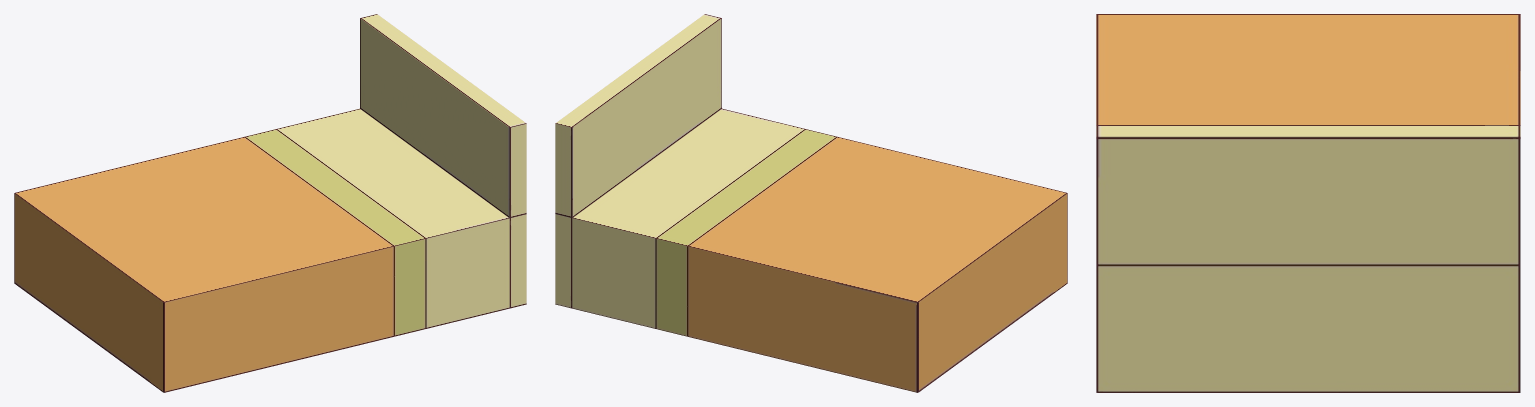
File: Dream(2)_Bed.fbx
The picture shows the model from 3 angles, left to right: view 1: azimuth 30°, elevation 25°; view 2: azimuth 150°, elevation 25°; view 3: azimuth 270°, elevation 25°; orthographic projection. The views are drawn at different scales.
Visible parts, largest first — view 1: Box001; view 2: Box001; view 3: Box001.
Part boxes in pixels (left/top/right/bottom): Box001: left=14, top=14, right=526, bottom=392; Box001: left=555, top=14, right=1067, bottom=392; Box001: left=1096, top=14, right=1520, bottom=392.
Bounding box in the file's own units: 84 × 40 × 60.
1 material, 1 textured.
